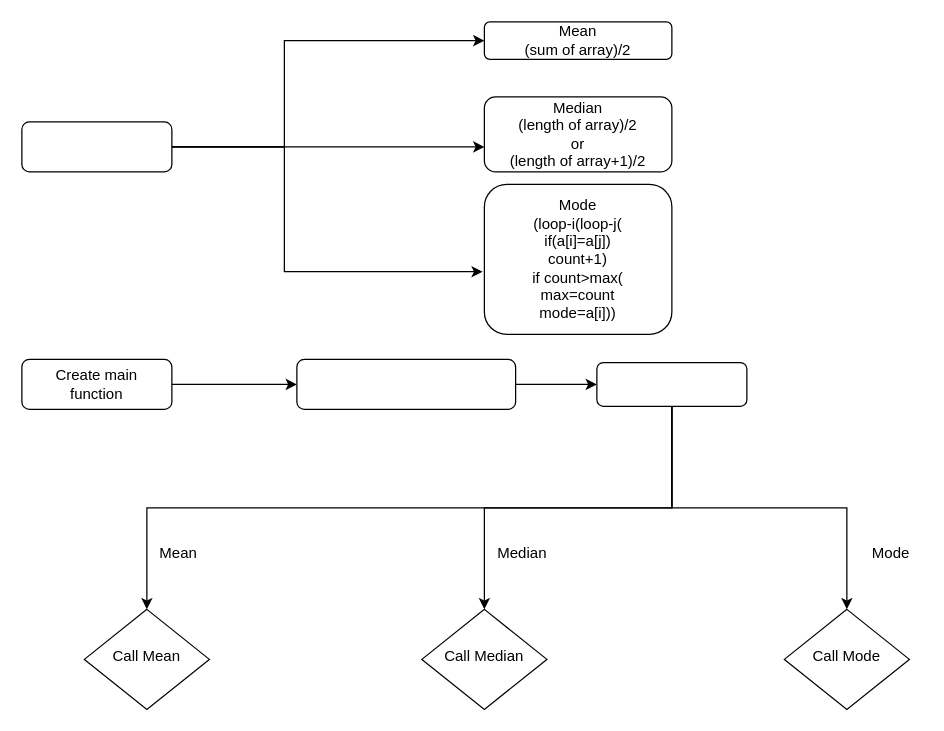
Image size: 944x731. Some labels were removed from this diagram. Here are the shapes that lost their labels. From the top down, the centre of each, then its label:
At point (96, 146): "Create functions".
At point (406, 383): "Create array and accept values from user".
At point (671, 383): "Create Switch conditions".
